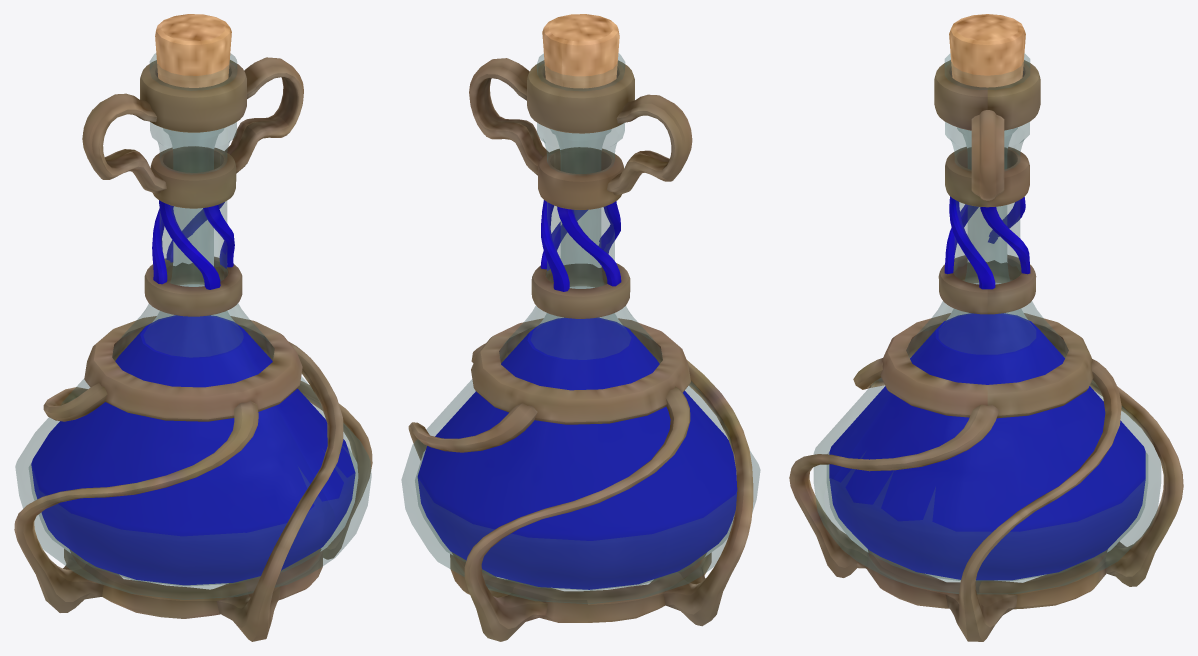
The model's file is potion_mana_elixir_game_ready_asset.glb.
3 views of the same model, side by side, from view 1: azimuth 30°, elevation 25°; view 2: azimuth 150°, elevation 25°; view 3: azimuth 270°, elevation 25° (orthographic).
Parts seen in each view (by area): view 1: defaultMaterial; view 2: defaultMaterial; view 3: defaultMaterial.
Boxes of the visible parts, <box> form: defaultMaterial: <box>14,14,372,641</box>; defaultMaterial: <box>401,14,760,641</box>; defaultMaterial: <box>789,14,1183,641</box>.
Bounding box in the file's own units: 29.54 × 45.99 × 29.69.
1 material, 1 textured.
